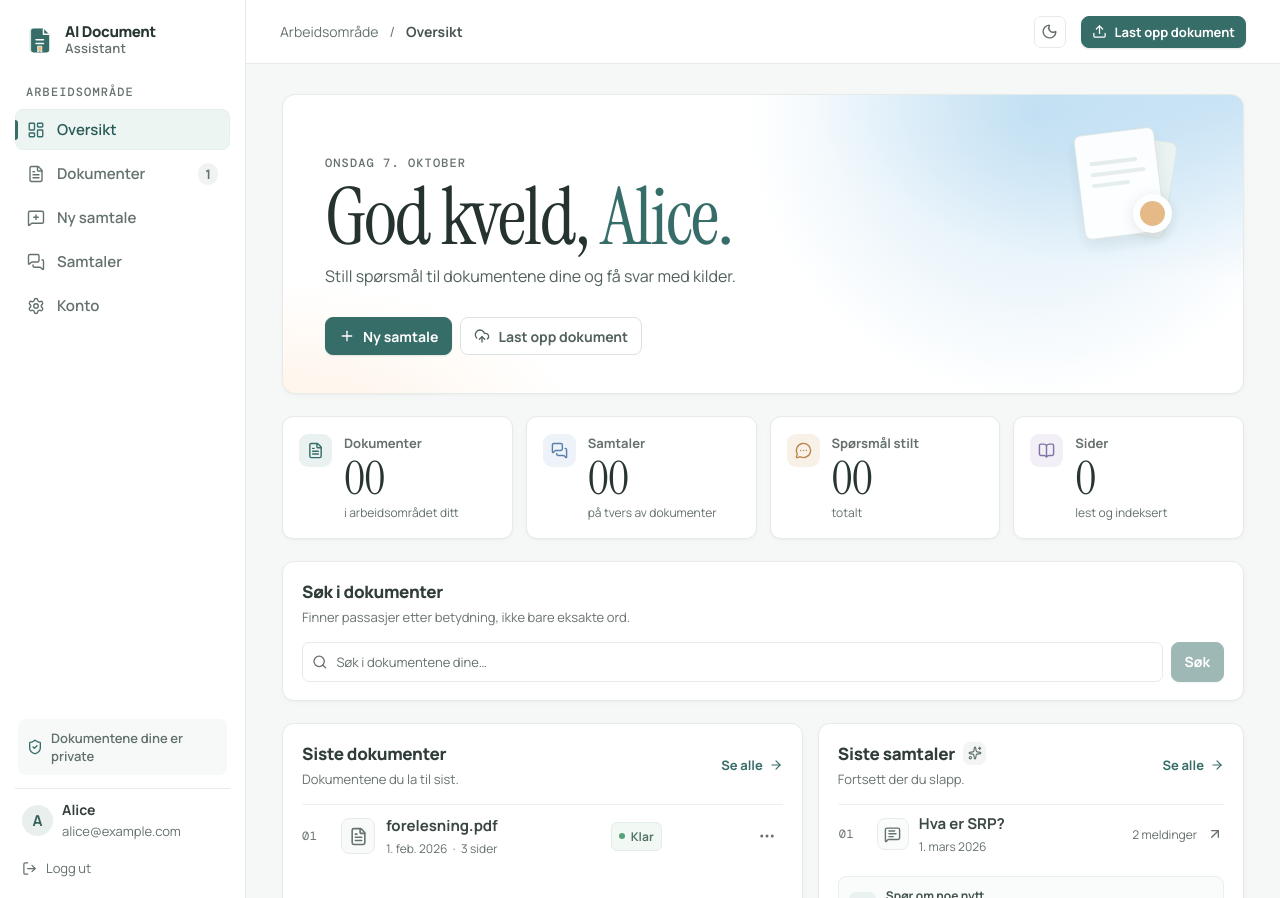
Test: access control in the UI › logs out and returns to the login page
This screenshot has width=1280, height=898.
Click the button "Logg ut".
click(122, 868)  # box [15, 850, 230, 886]
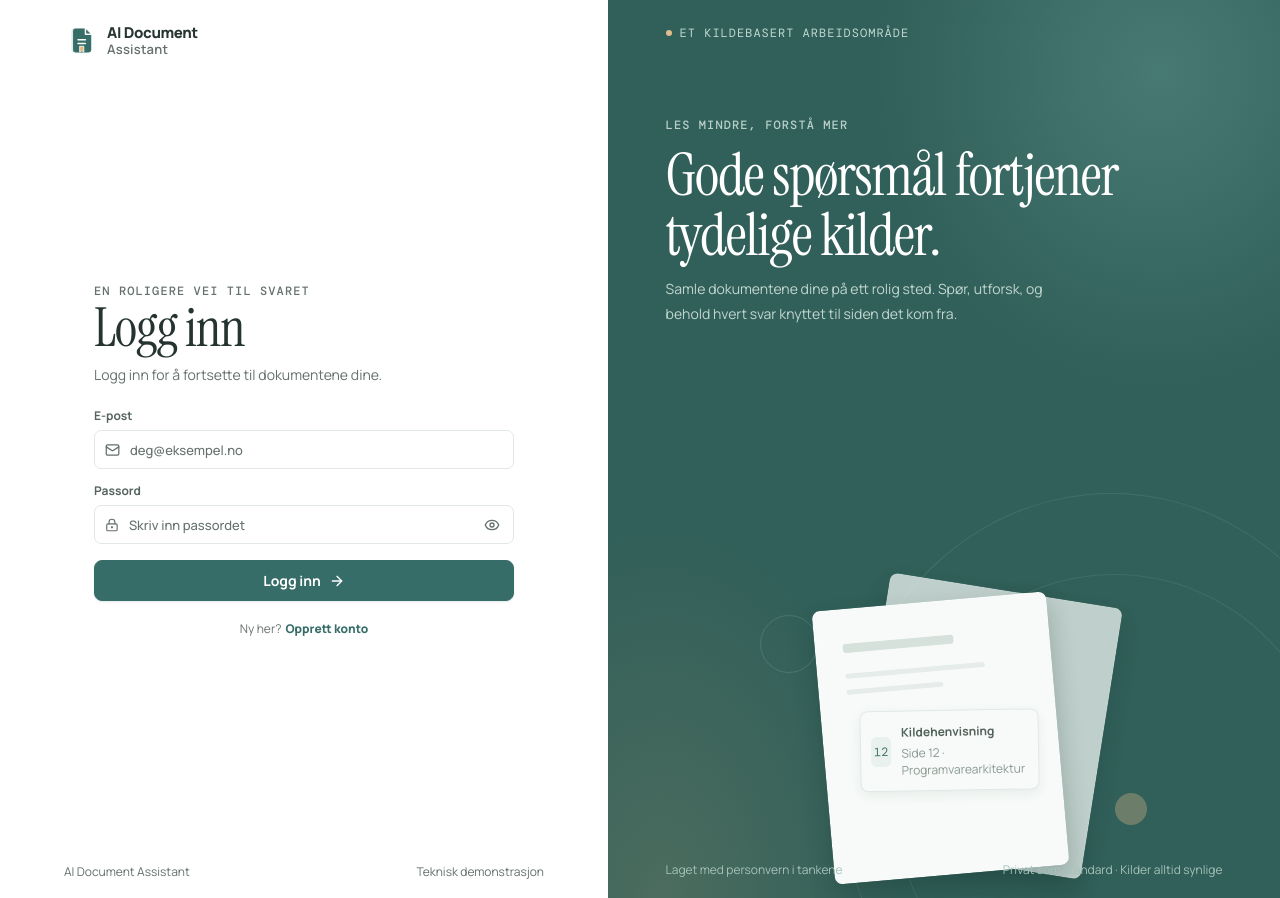
Expected: the heading "Logg inn" is shown, [94, 293, 244, 363]
